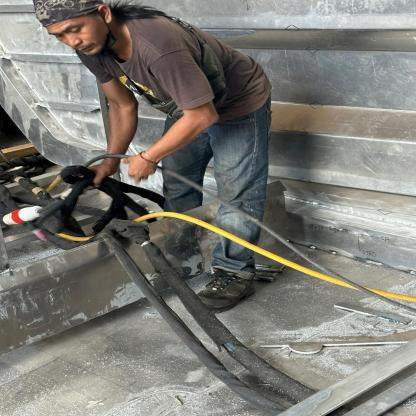bota: (182, 258, 269, 314)
